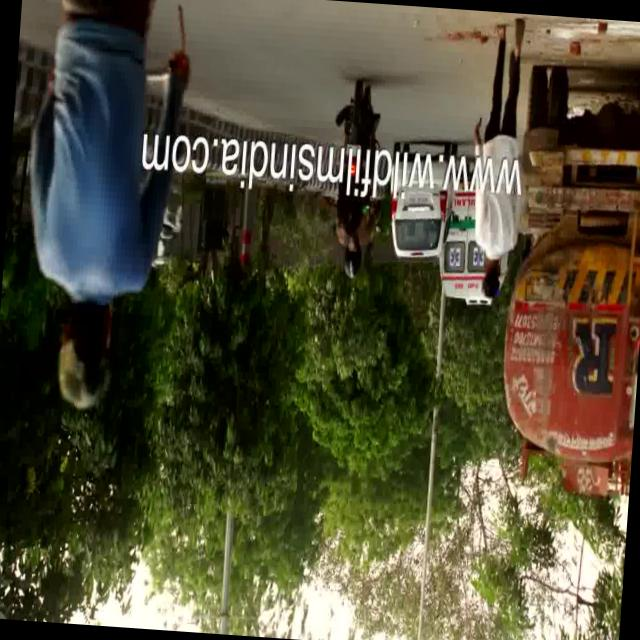ambulance: (435, 160, 488, 314)
